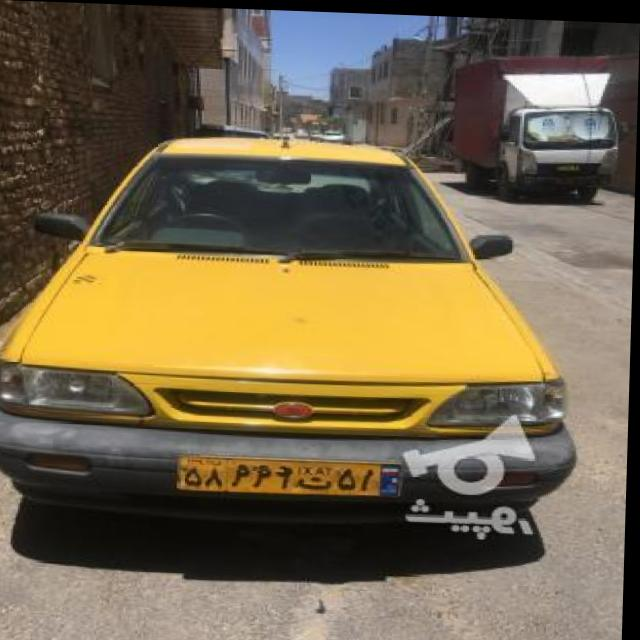licence: (182, 450, 410, 495)
